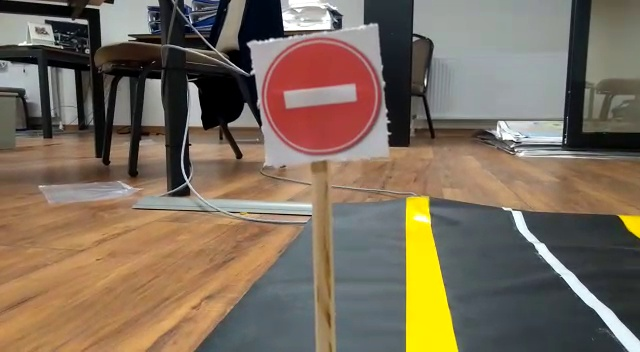girisi_olmayan_yol: (253, 35, 384, 159)
